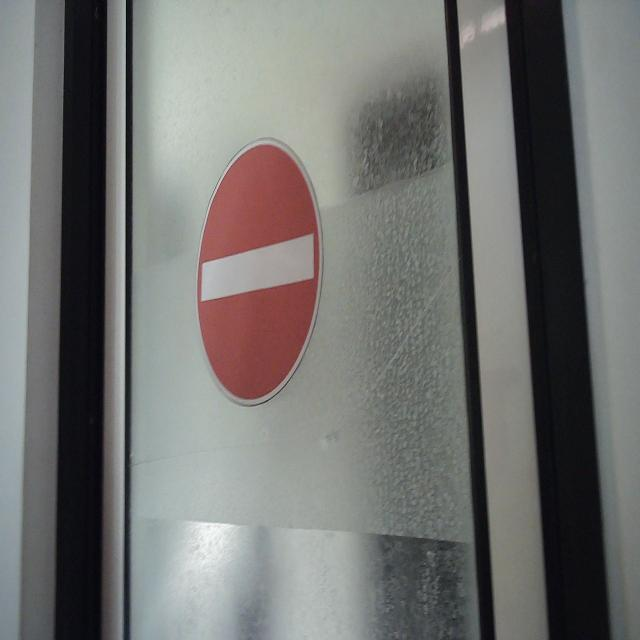no_entry: (194, 134, 326, 410)
